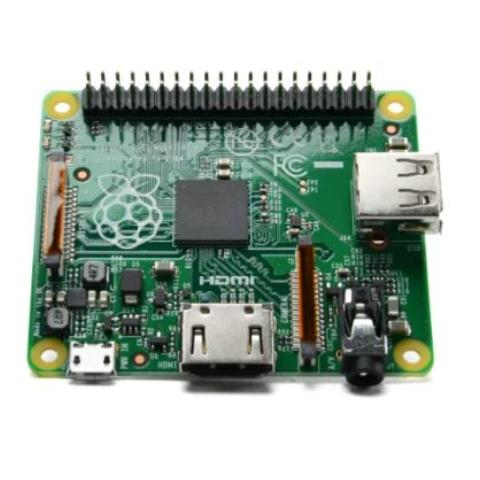Raspberry-Pi-1-Model-A-: (18, 60, 460, 410)
